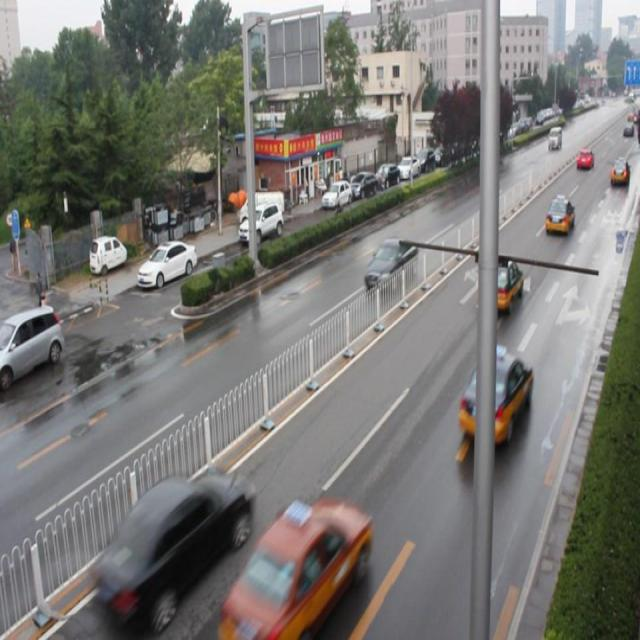car: (91, 466, 256, 620), (219, 494, 370, 628), (456, 347, 533, 444), (361, 236, 415, 291), (474, 256, 520, 314), (542, 196, 573, 238)
